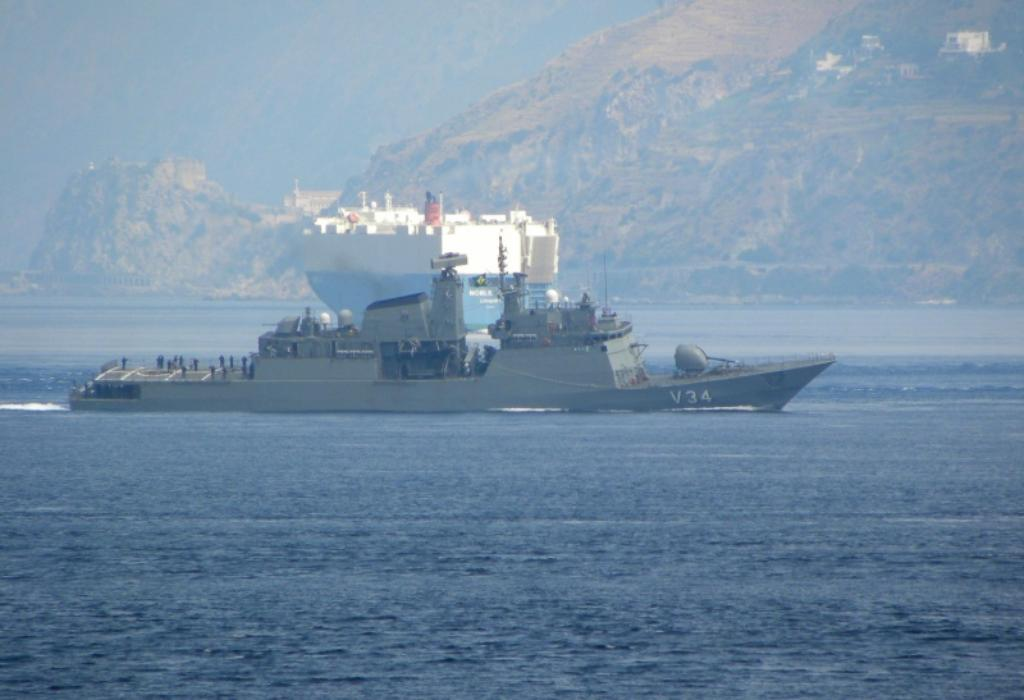Warship: (60, 244, 854, 421)
